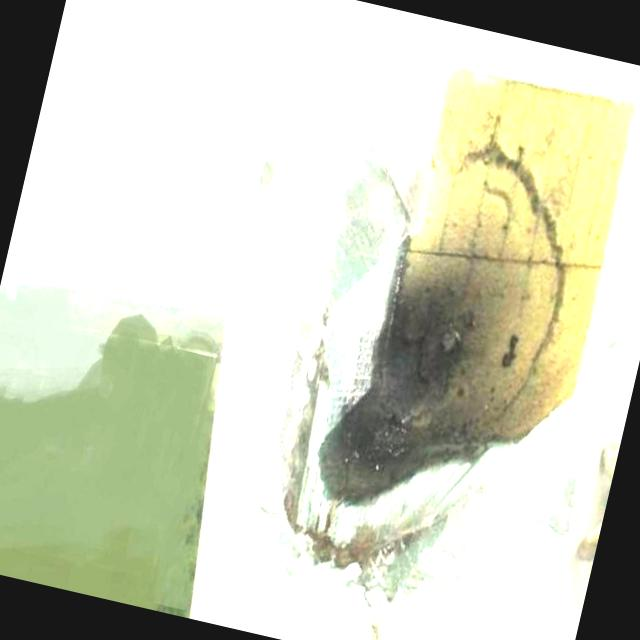crack: (298, 203, 591, 552)
surface_peeling: (157, 0, 404, 581), (535, 67, 640, 554)
